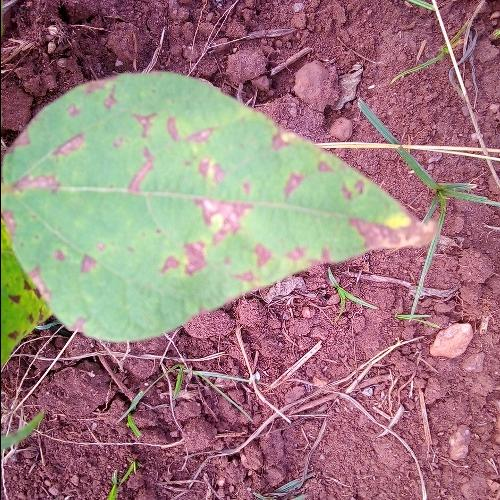hawar: (30, 64, 422, 334)
